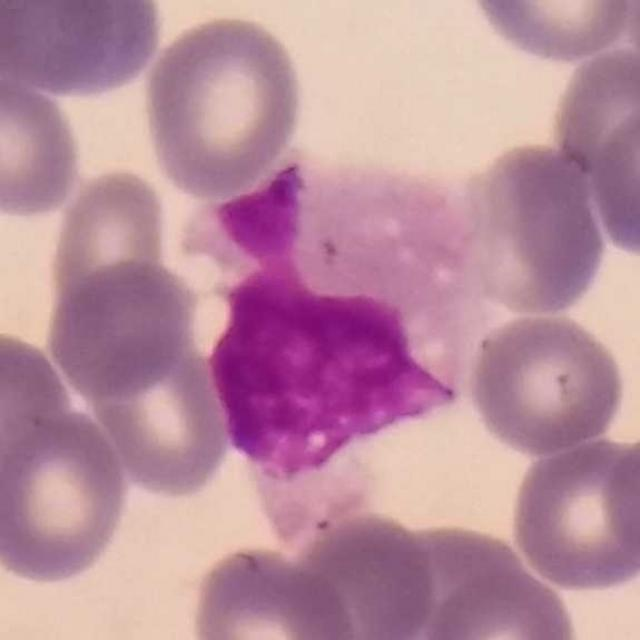Monocyte: (191, 158, 503, 526)
RBC: (137, 8, 309, 200), (445, 137, 611, 320), (81, 337, 235, 501), (463, 308, 630, 459), (0, 401, 134, 588), (42, 161, 176, 333), (42, 256, 200, 401), (359, 516, 536, 640), (506, 434, 639, 596), (280, 510, 440, 640), (184, 541, 360, 640), (4, 0, 168, 101), (0, 321, 77, 514), (0, 65, 86, 224), (412, 563, 584, 640), (547, 43, 640, 183), (460, 0, 638, 66), (586, 94, 640, 260), (601, 424, 640, 578)
